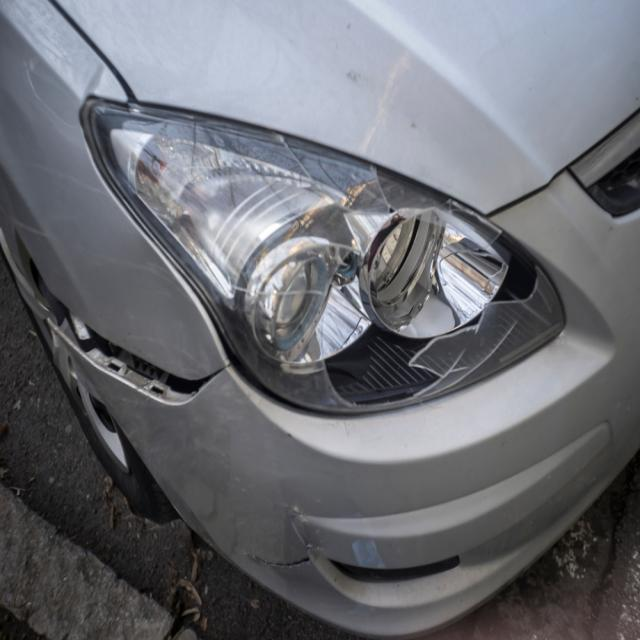crack: (243, 541, 322, 567)
lamp broken: (84, 96, 566, 416)
